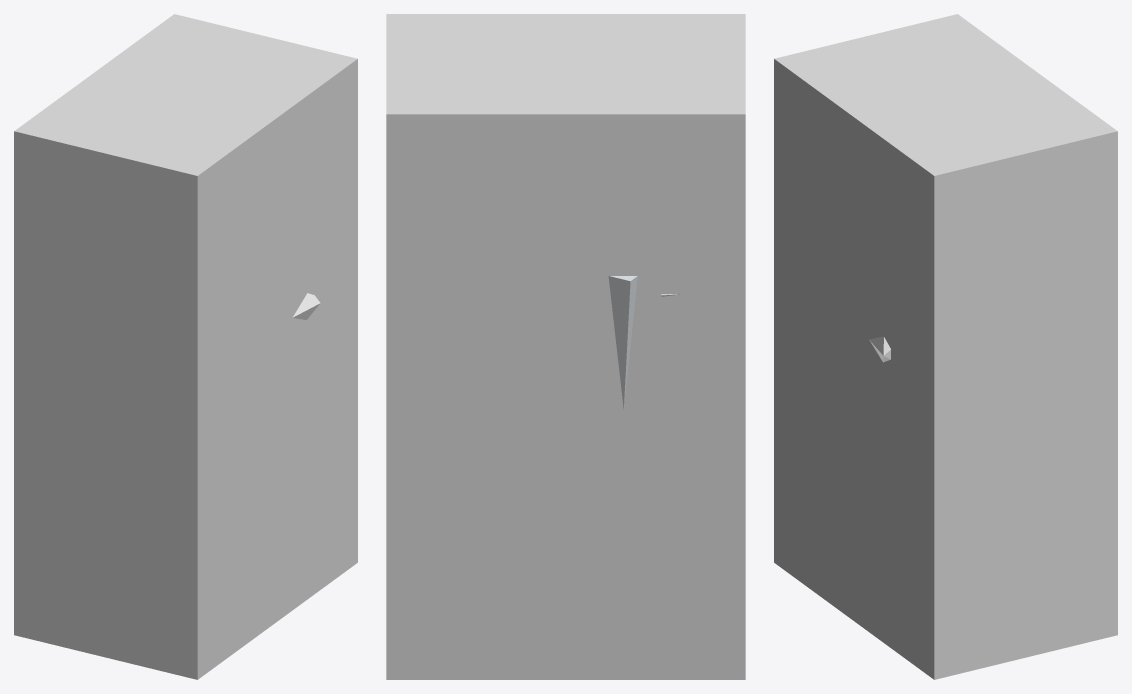
File: tundra_yeti.fbx
3 renders of one model, left to right at view 1: azimuth 30°, elevation 25°; view 2: azimuth 150°, elevation 25°; view 3: azimuth 270°, elevation 25°, orthographic. The views are drawn at different scales.
Visible parts, largest first — view 1: Root__0.00_4.00_-0.12__4.61_8.00_3.05; view 2: Root__0.00_4.00_-0.12__4.61_8.00_3.05, Torso__Root__0.00_3.44_0.00; view 3: Root__0.00_4.00_-0.12__4.61_8.00_3.05.
Part boxes in pixels (bbox=[...]): Root__0.00_4.00_-0.12__4.61_8.00_3.05: bbox=[14, 14, 357, 679]; Root__0.00_4.00_-0.12__4.61_8.00_3.05: bbox=[386, 14, 745, 679]; Torso__Root__0.00_3.44_0.00: bbox=[608, 276, 637, 409]; Root__0.00_4.00_-0.12__4.61_8.00_3.05: bbox=[774, 14, 1117, 679].
Bounding box in the file's own units: 154 × 225 × 138.
Materials: 1 (1 with a texture image).
